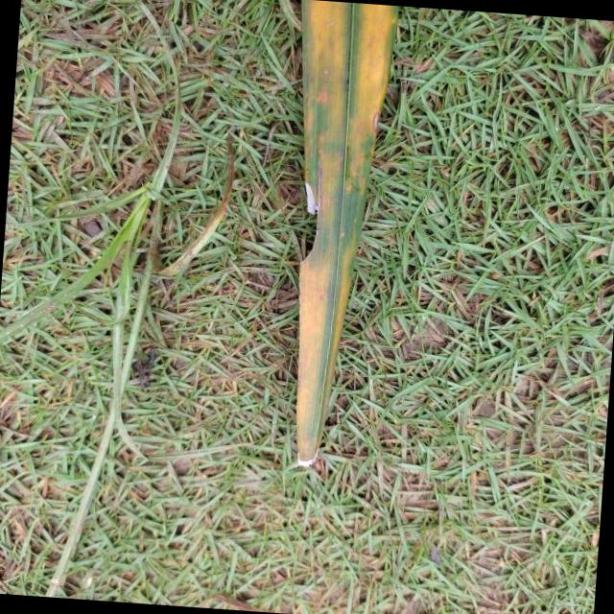Megnesium: (291, 0, 398, 470)
